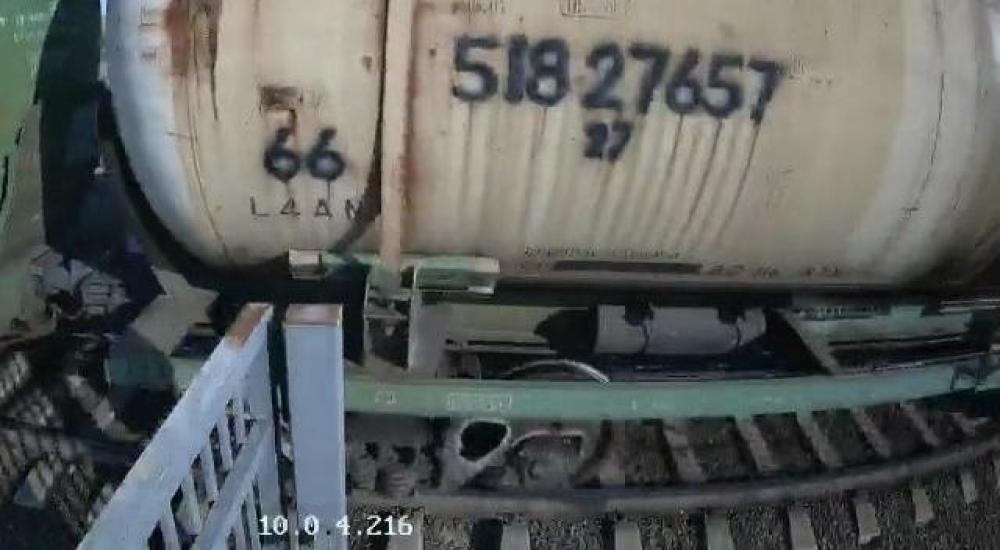Wagon-number: (445, 27, 790, 126)
